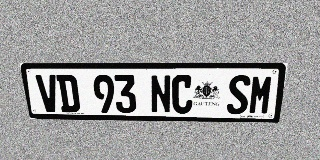3: (114, 75, 136, 113)
9: (92, 75, 116, 113)
C: (172, 75, 193, 114)
D: (56, 75, 81, 112)
M: (248, 75, 274, 115)
N: (150, 75, 171, 113)
S: (226, 75, 251, 114)
V: (35, 75, 61, 112)
